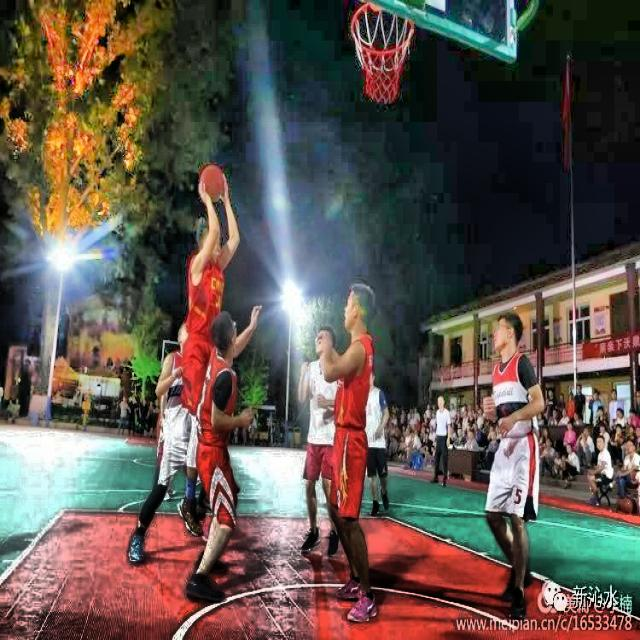rim: (350, 1, 415, 103)
